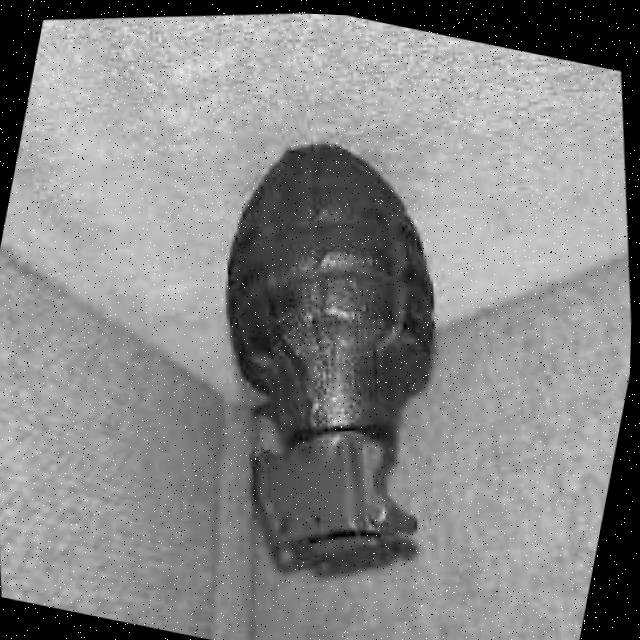grenade: (175, 126, 495, 601)
